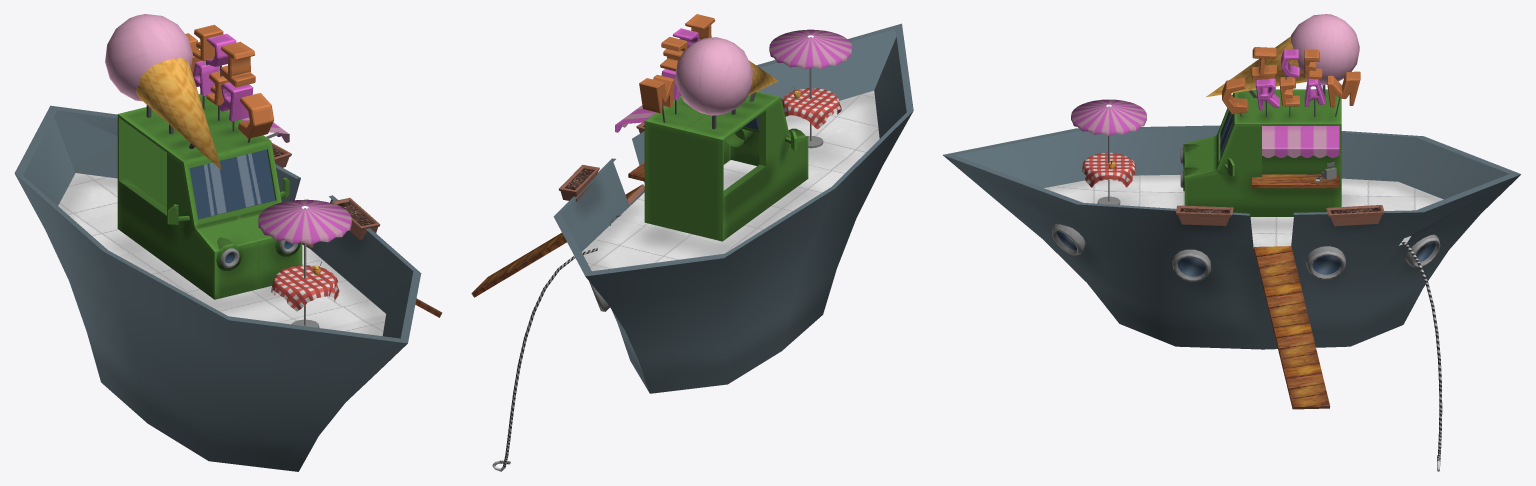
File: icecreamboat.glb
3 renders of one model, left to right at view 1: azimuth 30°, elevation 25°; view 2: azimuth 150°, elevation 25°; view 3: azimuth 270°, elevation 25°, orthographic. The views are drawn at different scales.
Visible parts, largest first — view 1: Boat; view 2: Boat; view 3: Boat.
Boxes of the visible parts, left/top/right/bottom form: Boat: left=14, top=14, right=442, bottom=471; Boat: left=471, top=14, right=913, bottom=471; Boat: left=943, top=14, right=1521, bottom=471.
Size of the model in its own units: 22.86 by 28.43 by 38.7.
1 material, 1 textured.
